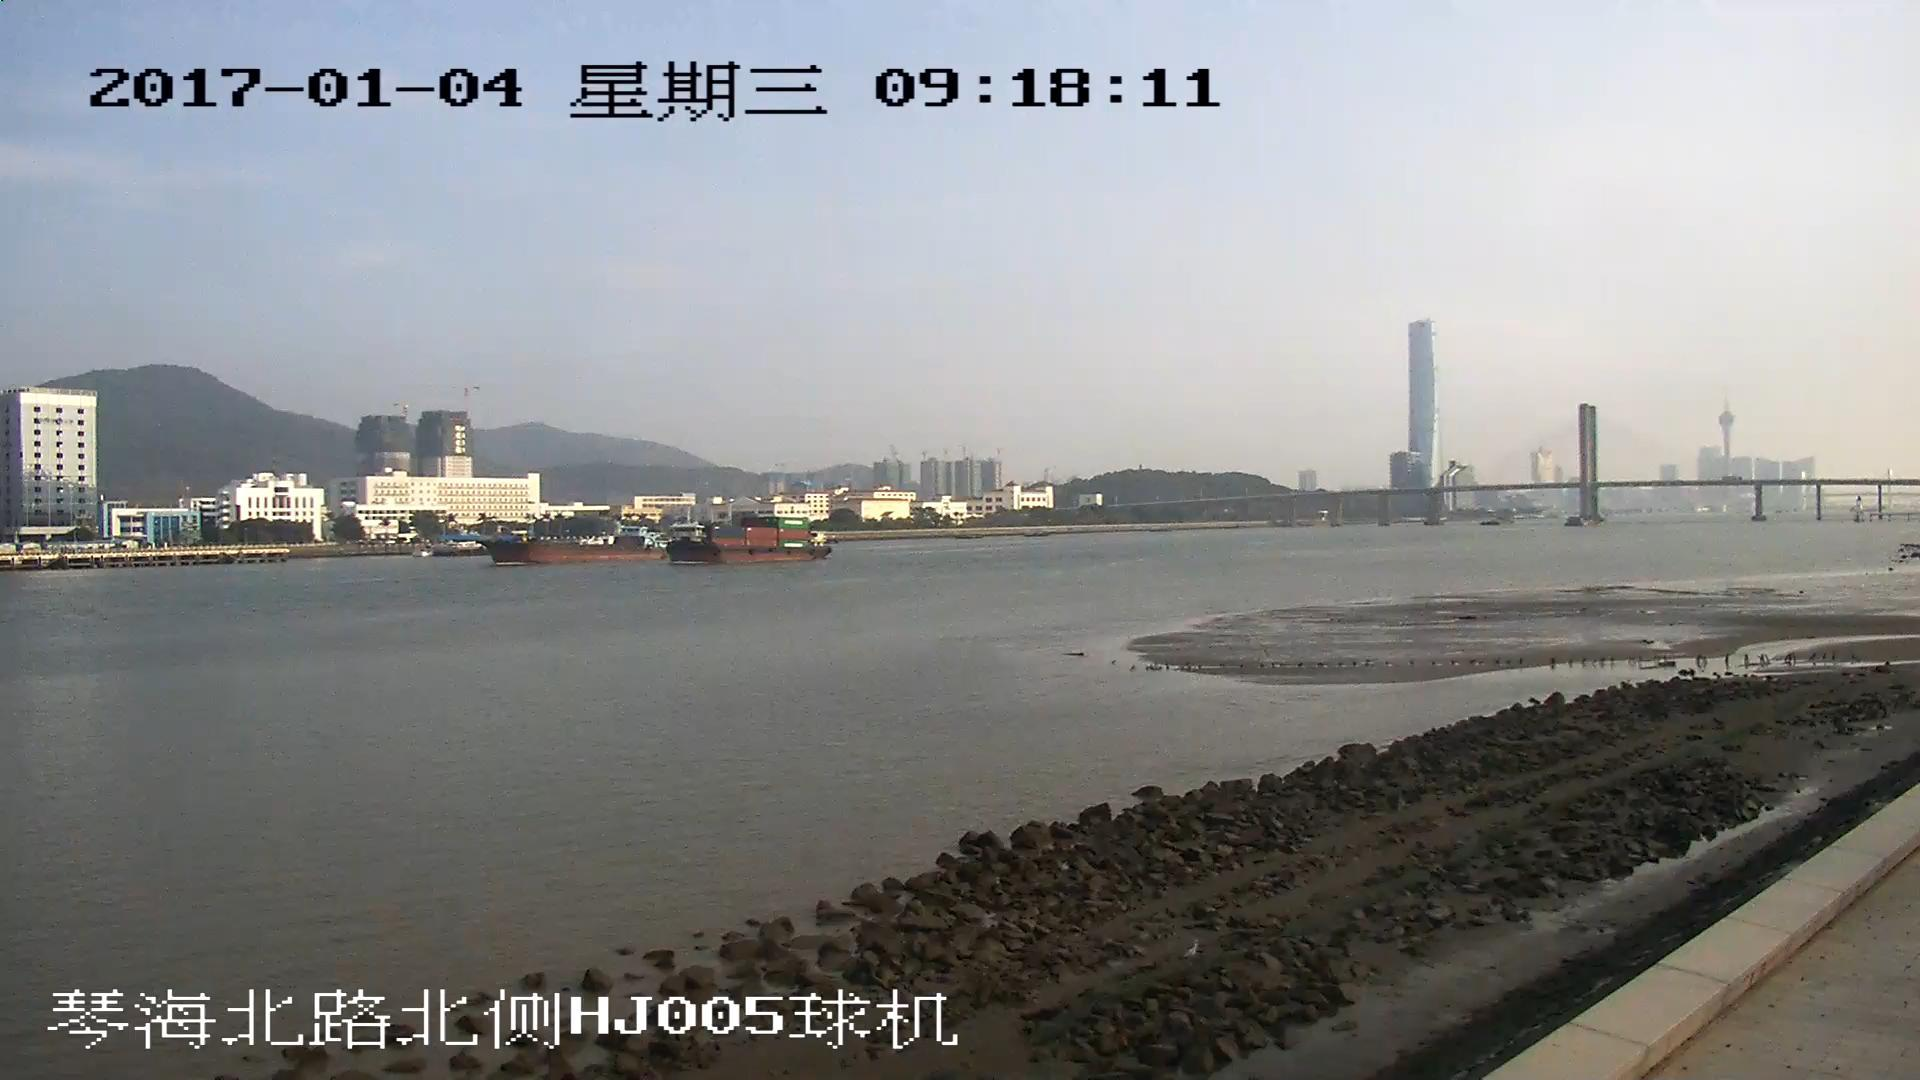Ship: (665, 518, 831, 562), (481, 527, 655, 566)
